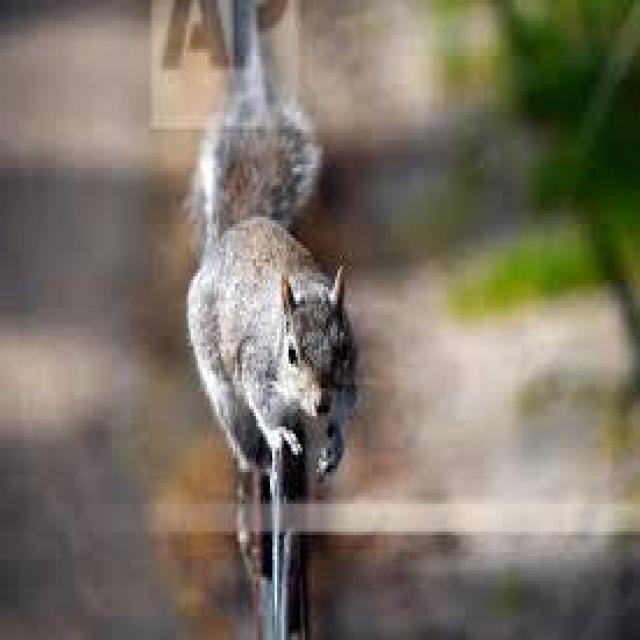license-plate: (174, 52, 377, 591)
